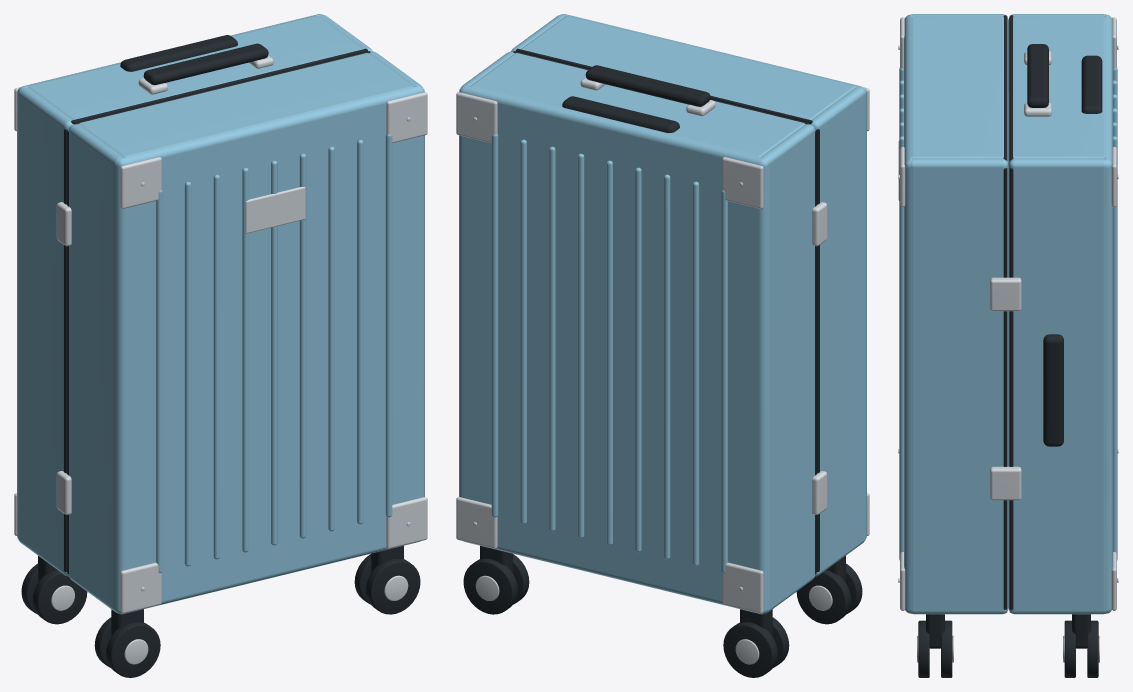
Rendered from suitcase_skyblue_cm.fbx.
The picture shows the model from 3 angles, left to right: view 1: azimuth 30°, elevation 25°; view 2: azimuth 150°, elevation 25°; view 3: azimuth 270°, elevation 25°; orthographic projection.
Parts seen in each view (by area): view 1: Front_OuterPanel, Front_SideWall, Rear_SideWall, Front_EndWall.001, Rear_EndWall.001, Front_RaisedFlute_01, Front_RaisedFlute_08, Front_RaisedFlute_05, Front_RaisedFlute_02, Front_RaisedFlute_07, Front_RaisedFlute_06, Front_RaisedFlute_00 (+19 smaller); view 2: Rear_OuterPanel, Rear_SideWall, Front_SideWall, Front_EndWall.001, Rear_EndWall.001, Rear_RaisedFlute_05, Rear_RaisedFlute_01, Rear_RaisedFlute_08, Rear_RaisedFlute_04, Rear_RaisedFlute_02, Rear_RaisedFlute_03, Rear_RaisedFlute_07 (+17 smaller); view 3: Front_SideWall.001, Rear_SideWall.001, Front_EndWall.001, Rear_EndWall.001, Rear_OuterPanel, Front_OuterPanel, Side_CarryHandle, Rear_Rim.001, Front_Rim.001, Rear_RaisedFlute_08, Front_RaisedFlute_08, Top_CarryHandle (+11 smaller).
Boxes of the visible parts, x1,y1,x2,y2 form: Front_OuterPanel: (115,85,424,614); Front_SideWall: (68,124,122,613); Rear_SideWall: (18,87,73,576); Front_EndWall.001: (78,53,413,157); Rear_EndWall.001: (28,16,362,119); Front_RaisedFlute_01: (184,181,191,566); Front_RaisedFlute_08: (385,134,392,517); Front_RaisedFlute_05: (299,153,306,538); Front_RaisedFlute_02: (213,174,219,559); Front_RaisedFlute_07: (357,139,363,524); Front_RaisedFlute_06: (328,146,334,531); Front_RaisedFlute_00: (156,190,162,572); Rear_OuterPanel: (459,85,768,614); Rear_SideWall: (761,124,815,613); Front_SideWall: (810,87,865,576); Front_EndWall.001: (521,16,855,119); Rear_EndWall.001: (470,53,805,157); Rear_RaisedFlute_05: (577,153,584,538); Rear_RaisedFlute_01: (692,181,699,566); Rear_RaisedFlute_08: (491,134,498,517); Rear_RaisedFlute_04: (606,160,612,545); Rear_RaisedFlute_02: (664,174,670,559); Rear_RaisedFlute_03: (635,167,641,552); Rear_RaisedFlute_07: (520,139,526,524); Front_SideWall.001: (910,158,1008,614); Rear_SideWall.001: (1008,158,1106,614); Front_EndWall.001: (911,16,1008,163); Rear_EndWall.001: (1008,16,1105,162); Rear_OuterPanel: (1104,14,1112,613); Front_OuterPanel: (904,14,912,613); Side_CarryHandle: (1043,334,1063,446); Rear_Rim.001: (1009,168,1013,609); Front_Rim.001: (1003,168,1007,609); Rear_RaisedFlute_08: (1113,180,1117,560); Front_RaisedFlute_08: (899,180,903,560); Top_CarryHandle: (1027,44,1048,107).
Bounding box in the file's own units: 21.6 × 12.68 × 34.33.
